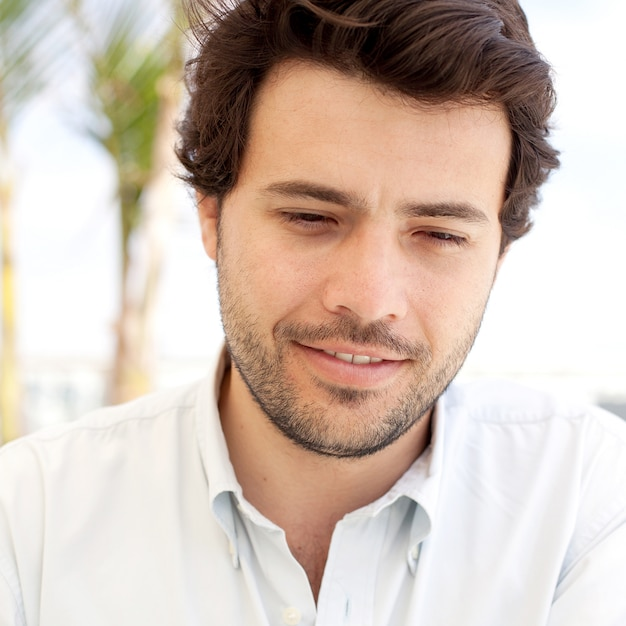young: (198, 24, 574, 438)
